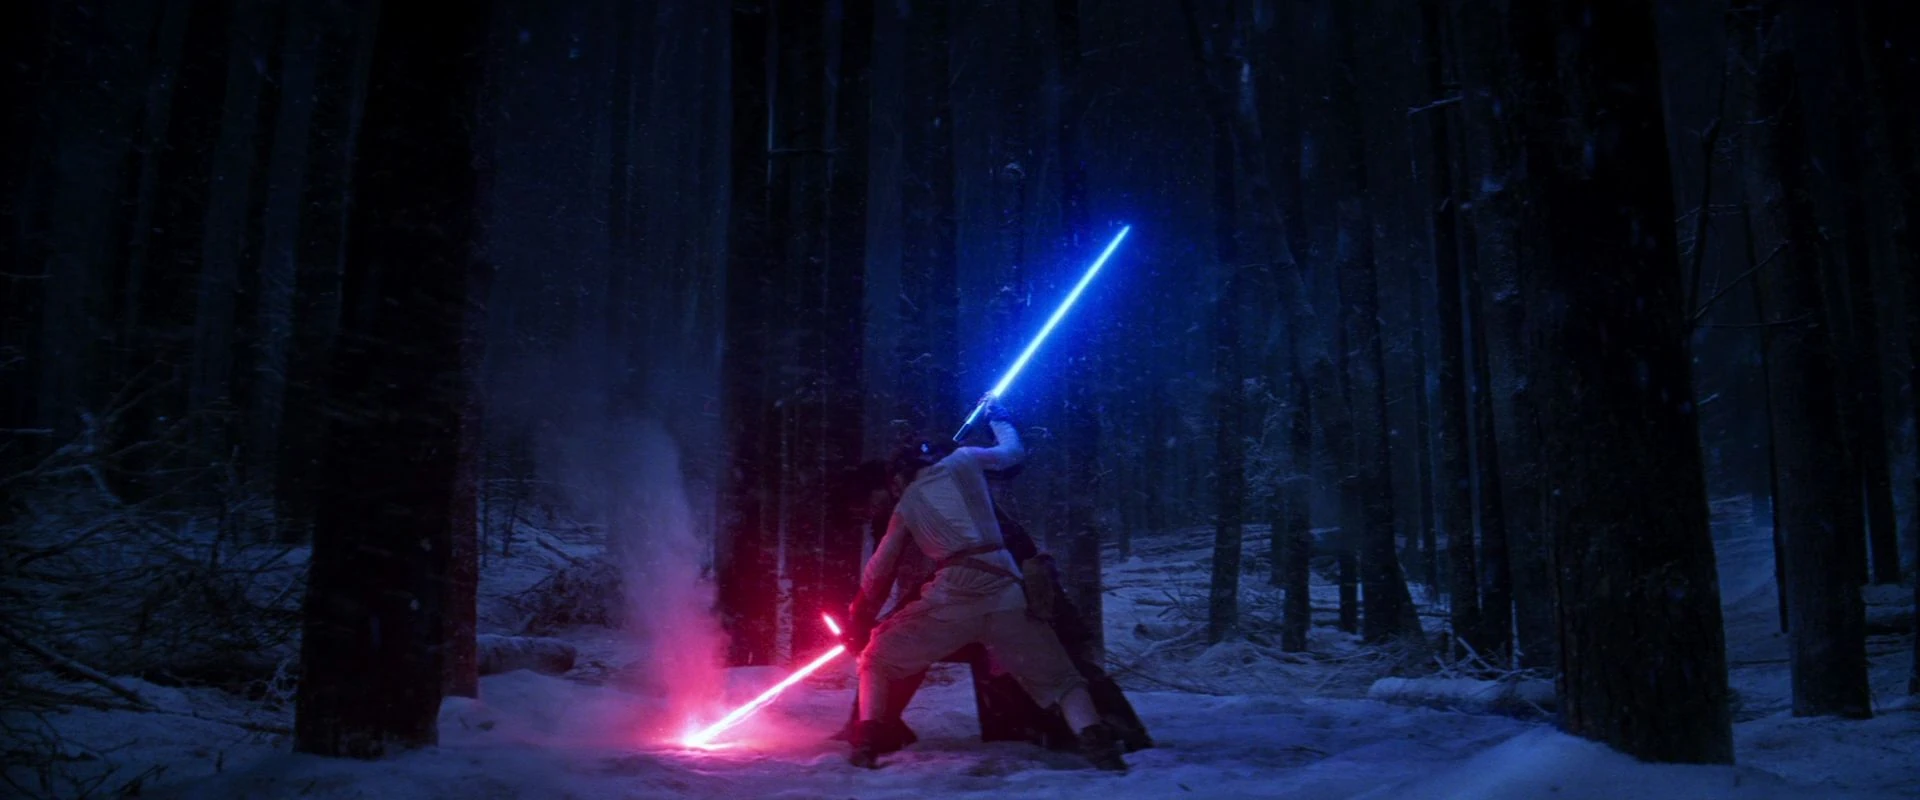Dalek: (932, 217, 1131, 464)
cats: (675, 600, 868, 751)
